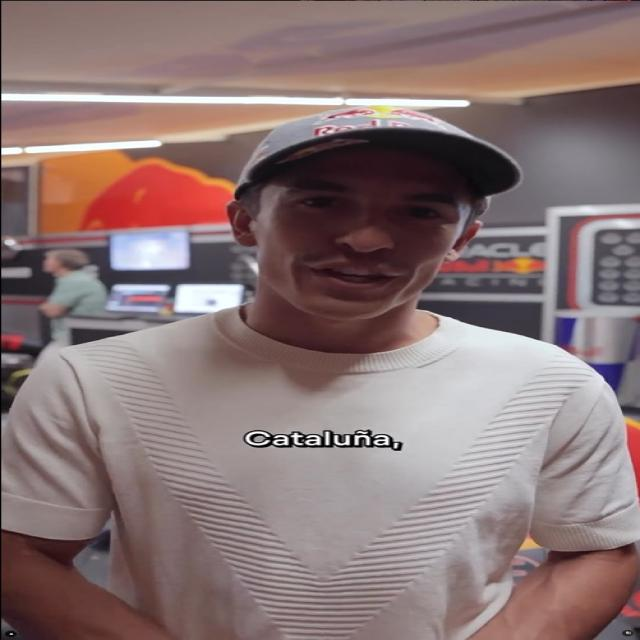illegal_helmet: (216, 102, 528, 324)
